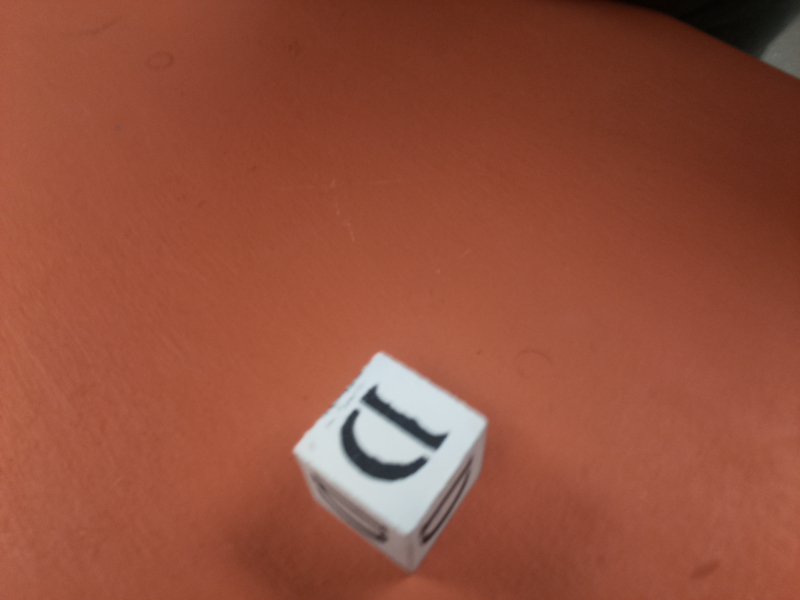blockD: (289, 351, 493, 569)
